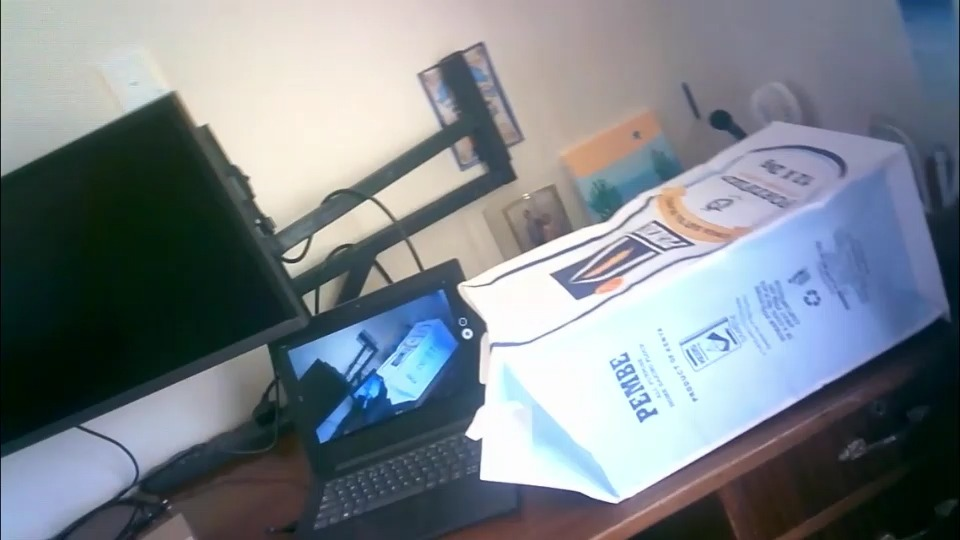wheat_flour_blue_label: (469, 121, 945, 498)
